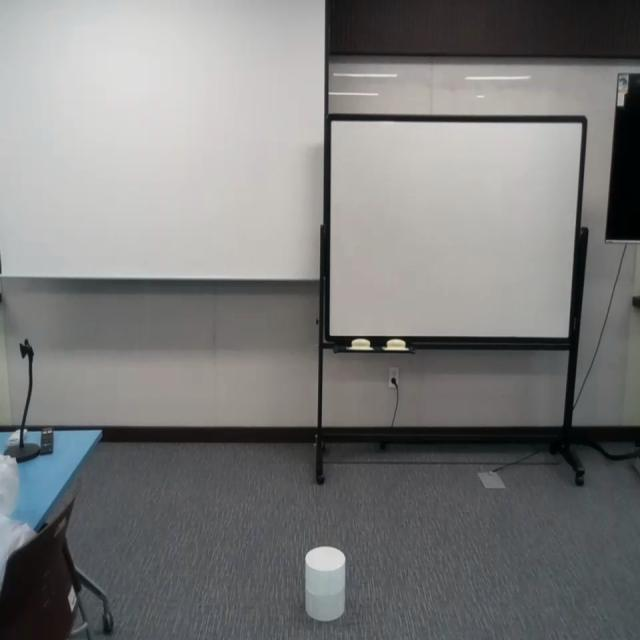cylinder: (305, 546, 346, 622)
